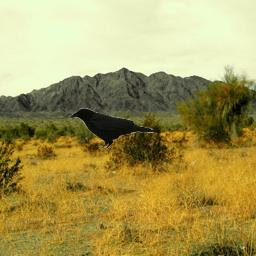Crow: (67, 106, 154, 149)
